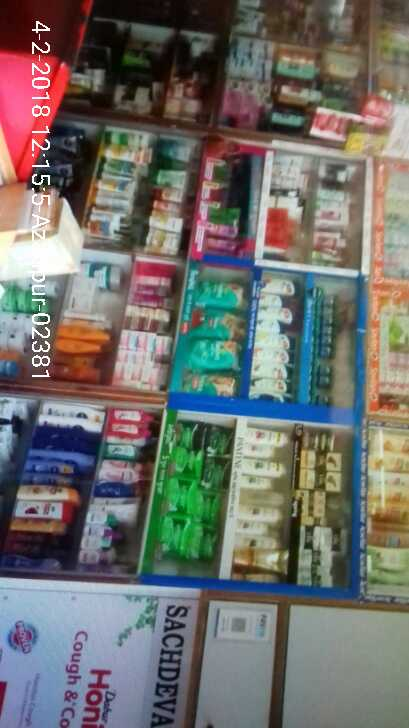vicks: (314, 288, 340, 406)
